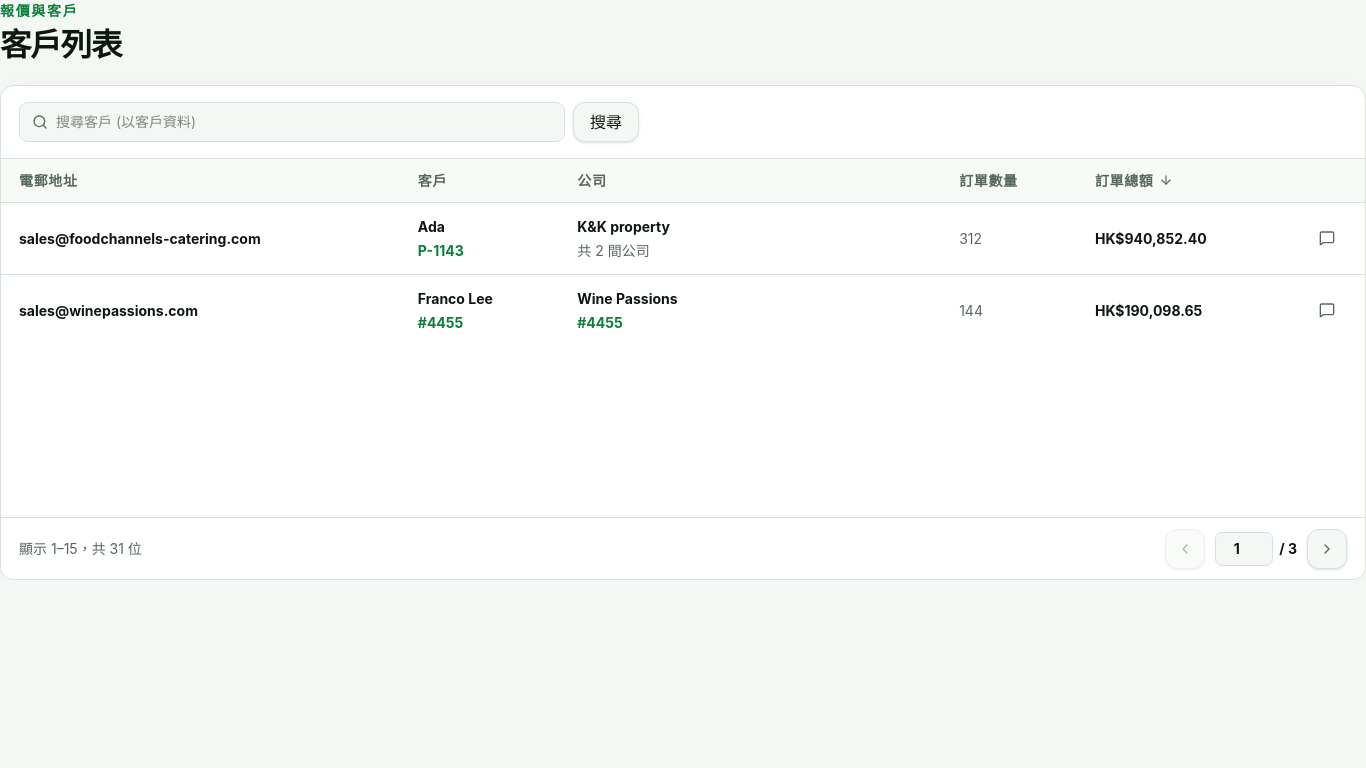
it: Quote customers list › opens the customer order table from the customer name
The width and height of the screenshot is (1366, 768).
Expected: the text "sales@foodchannels-catering.com" is shown, [19,230,261,247]
Step 1. Click the button with aria-label "查看訂單 Ada" → x=480, y=226, box [418,216,541,237]
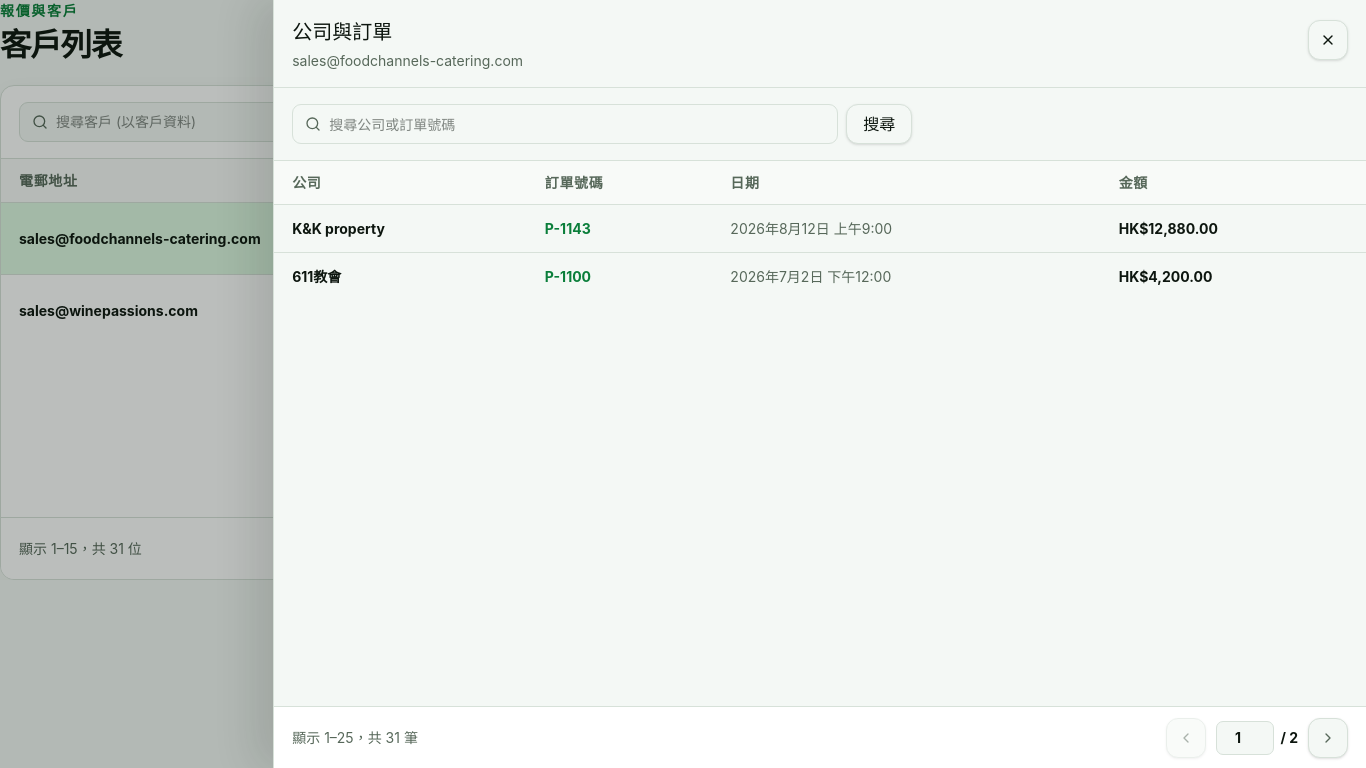
Expected: the 3rd header is shown, [274,88,1365,161]
Expected: the element that starts with "訂單號碼" is shown, [274,88,1365,285]
Expected: the column heading "公司" is shown, [274,161,527,205]
